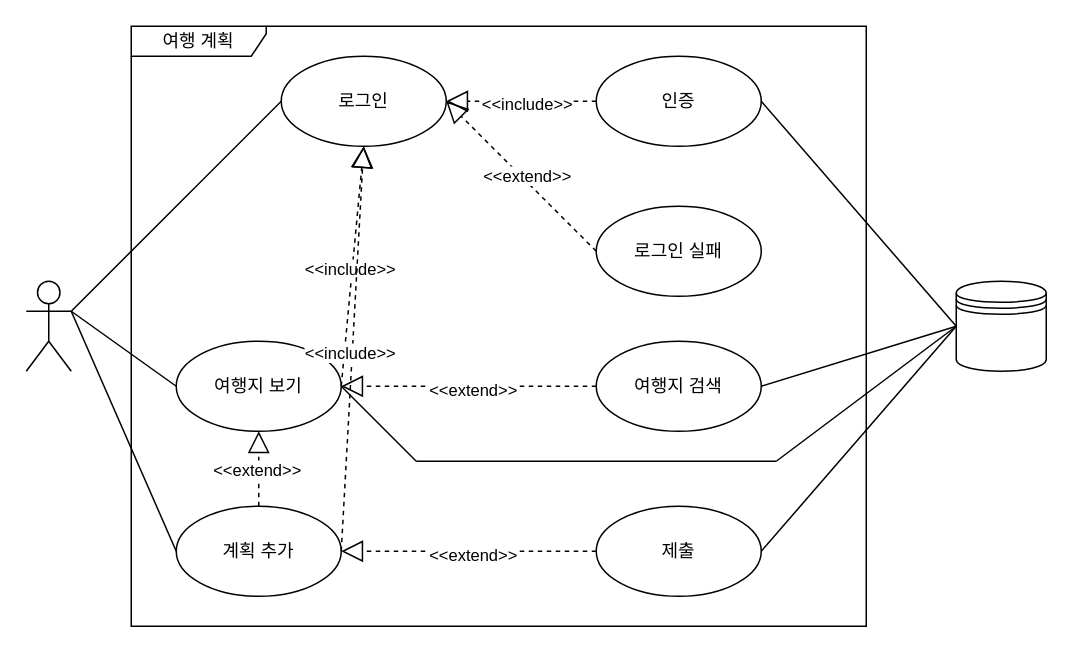
The diagram is 1073 pixels wide and 653 high, and some of its shapes have lost their labels. The box of each missing label's shape, as (x1, y1, x2, y2) in pixels:
Actor: (25, 280, 71, 371)
DB: (955, 280, 1046, 371)
